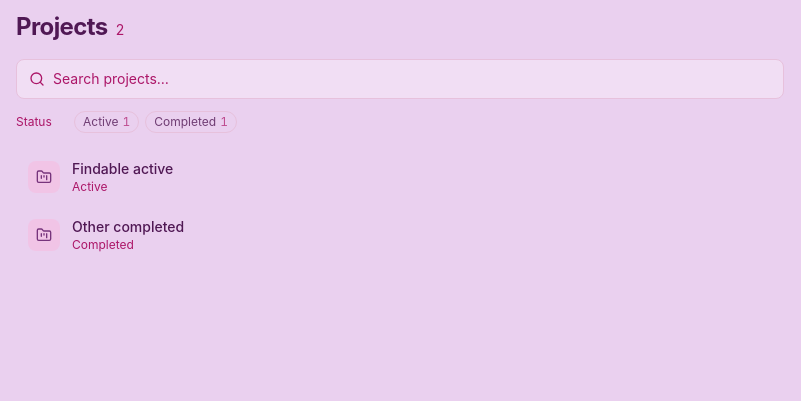
it: EntityCollection › teaches an empty-after-filter state with a Reset that clears facets and query
The image size is (801, 401).
Expected: the text "Findable active" is shown, [72,160,173,177]
Click the button "Completed 1": (191, 122) [145,111,237,133]
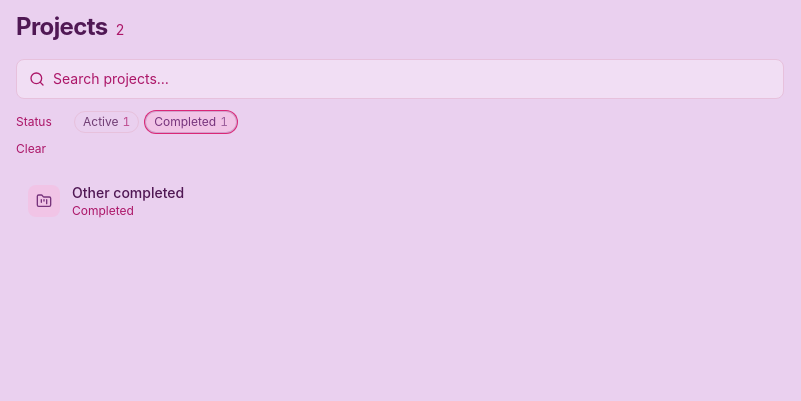
In the field labelled "Search projects…": (412, 79) [53,69,771,89], type "findable"
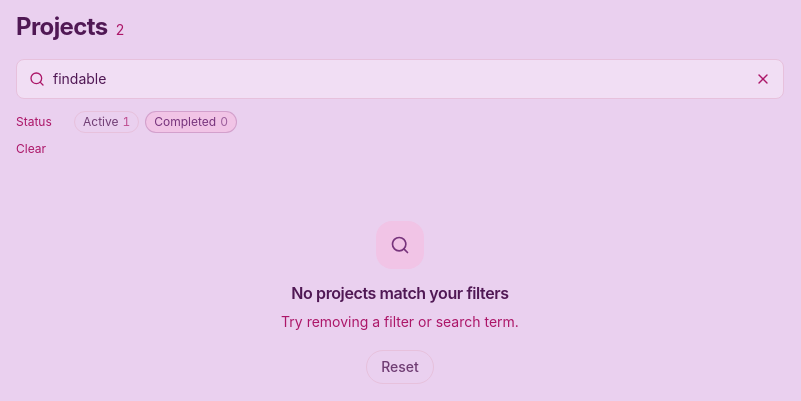
Now the heading "No projects match your filters" is shown, box [281,281,519,305]
Reset restores the full list (clears BOTH the query and the facet).
Click the button "Reset": (400, 367) [366,350,434,384]
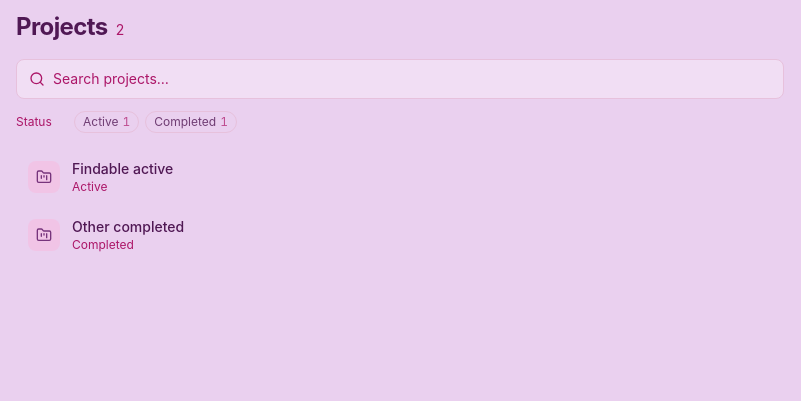
Now the text "Findable active" is shown, box [72,160,173,177]
Now the text "Other completed" is shown, box [72,218,184,235]
Now the field labelled "Search projects…" is empty, box [53,69,771,89]
